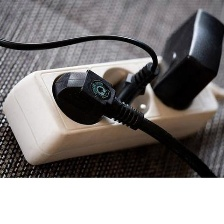three_eye_plug: (0, 46, 220, 170)
